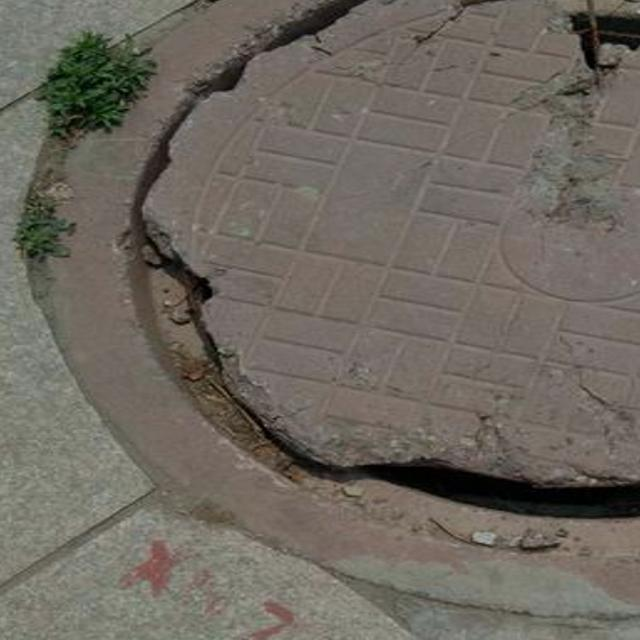broke: (11, 0, 640, 628)
